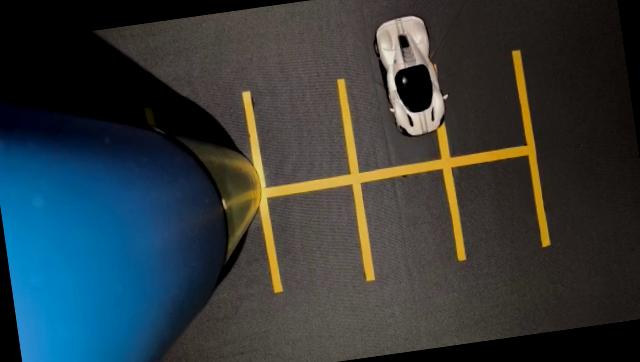toy_car: (348, 4, 470, 150)
